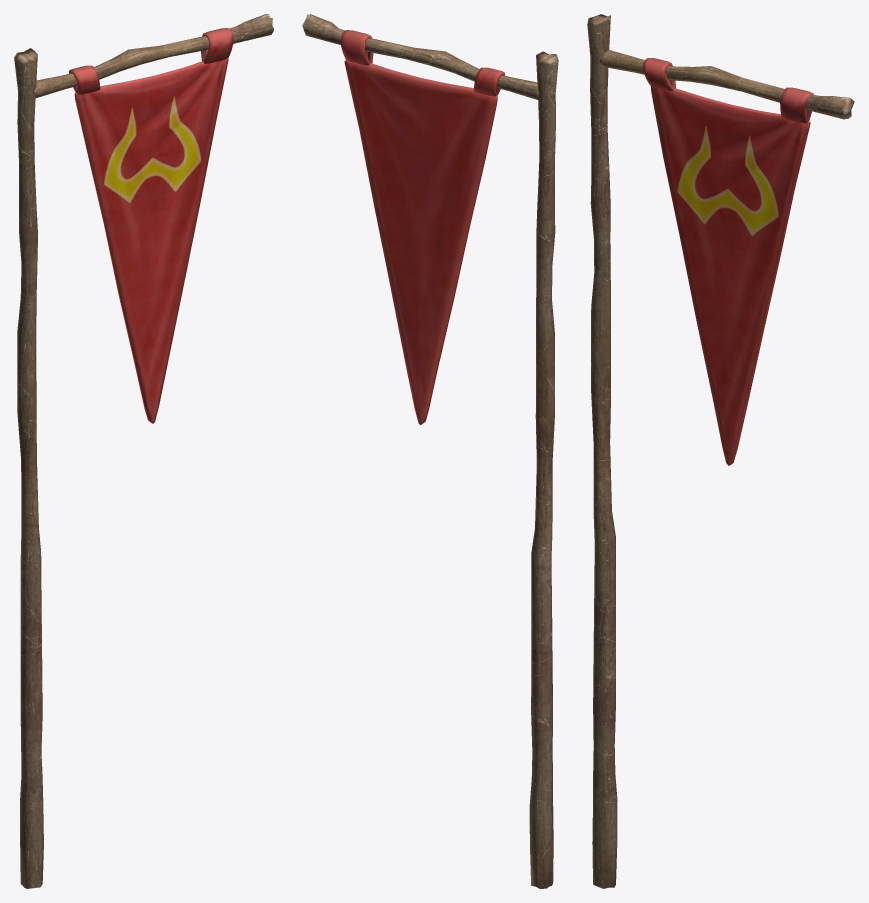
3 views of the same model, side by side, from view 1: azimuth 30°, elevation 25°; view 2: azimuth 150°, elevation 25°; view 3: azimuth 330°, elevation 25° (orthographic). The views are drawn at different scales.
Parts seen in each view (by area): view 1: SM_Single_Banner_Zamorak_01v2_LOD0; view 2: SM_Single_Banner_Zamorak_01v2_LOD0; view 3: SM_Single_Banner_Zamorak_01v2_LOD0.
Boxes of the visible parts, bbox=[...] form: SM_Single_Banner_Zamorak_01v2_LOD0: bbox=[14, 14, 273, 888]; SM_Single_Banner_Zamorak_01v2_LOD0: bbox=[302, 14, 558, 888]; SM_Single_Banner_Zamorak_01v2_LOD0: bbox=[587, 14, 854, 888].
Bounding box in the file's own units: 1.39 × 4.39 × 0.1182.
Materials: 2 (2 with a texture image).
